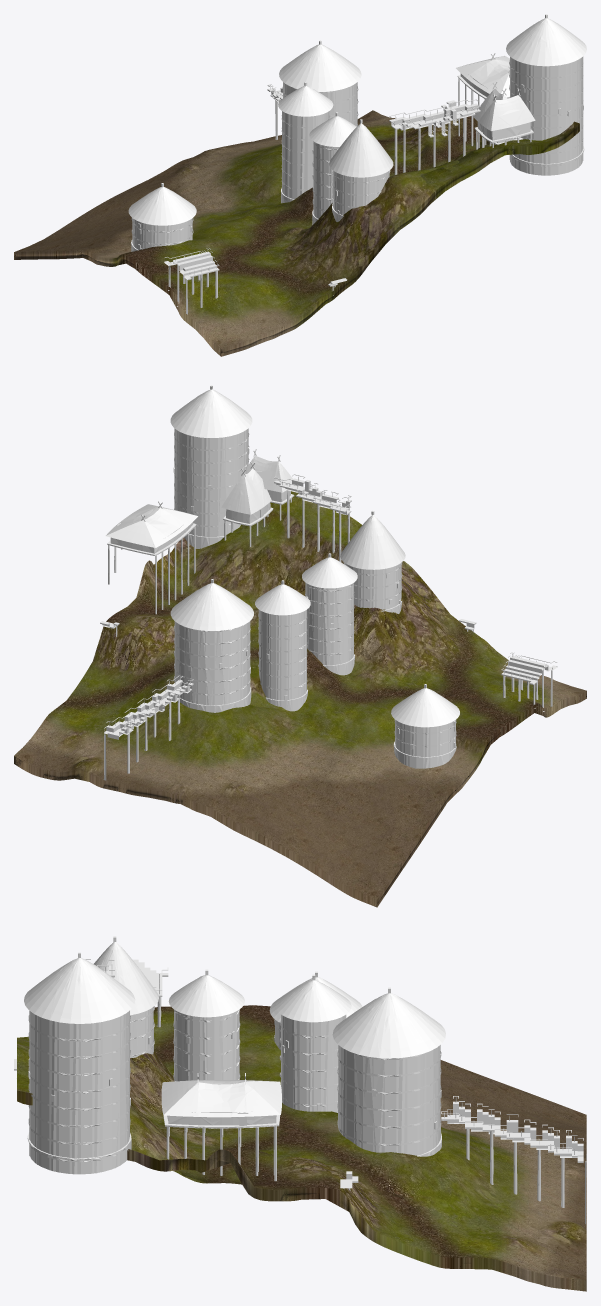
File: chunk_1_2.glb
The picture shows the model from 3 angles, top to bottom: view 1: azimuth 30°, elevation 25°; view 2: azimuth 150°, elevation 25°; view 3: azimuth 270°, elevation 25°; orthographic projection. The views are drawn at different scales.
Parts seen in each view (by area): view 1: Buildings_L0, Terrain_L2, Terrain_L0, Buildings_L1, Terrain_L1; view 2: Terrain_L2, Buildings_L0, Terrain_L0, Buildings_L1, Terrain_L1; view 3: Buildings_L0, Terrain_L2, Terrain_L0, Buildings_L1, Terrain_L1.
Part boxes in pixels (x1,y1,x2,y2): Buildings_L0: (131, 14, 584, 314); Terrain_L2: (14, 110, 579, 355); Terrain_L0: (14, 110, 579, 356); Buildings_L1: (128, 15, 586, 313); Terrain_L1: (14, 112, 579, 355); Terrain_L2: (14, 500, 585, 906); Buildings_L0: (100, 385, 557, 774); Terrain_L0: (14, 491, 586, 907); Buildings_L1: (102, 386, 556, 780); Terrain_L1: (14, 498, 582, 907); Buildings_L0: (14, 936, 586, 1224); Terrain_L2: (17, 1005, 586, 1291); Terrain_L0: (17, 1005, 586, 1291); Buildings_L1: (24, 938, 583, 1207); Terrain_L1: (17, 1011, 586, 1291).
Bounding box in the file's own units: 103 × 75.5 × 96.56.
Materials: 4 (1 with a texture image).
